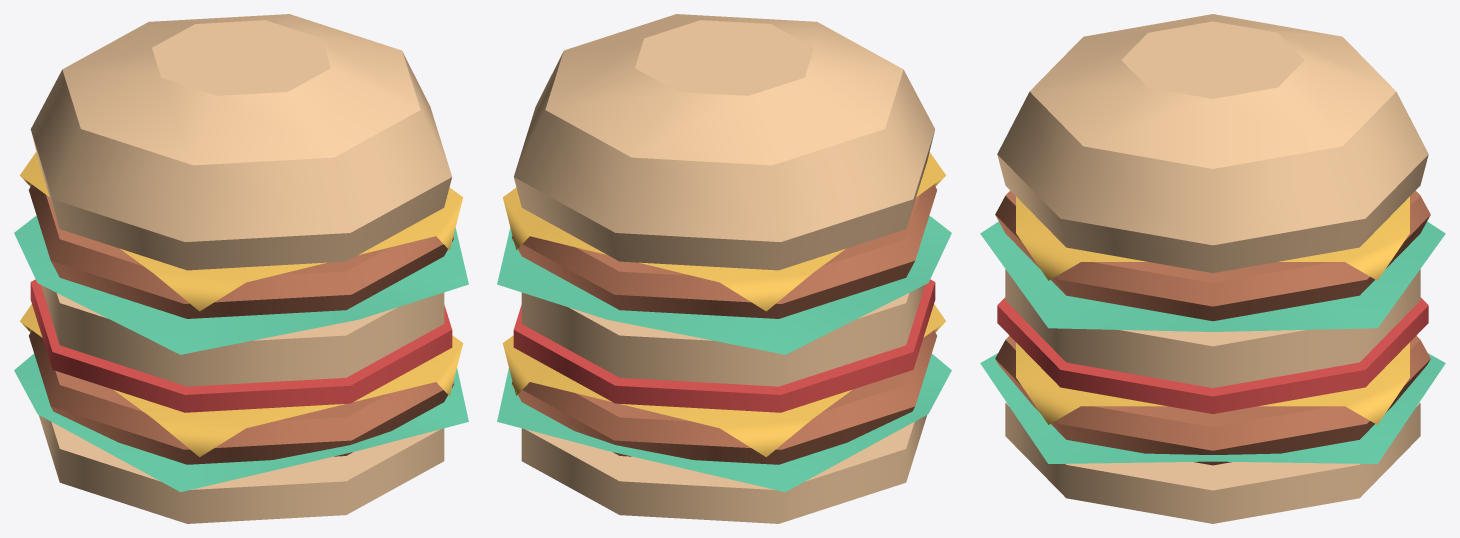
The model's file is burgerDouble.dae.
The picture shows the model from 3 angles, left to right: view 1: azimuth 30°, elevation 25°; view 2: azimuth 150°, elevation 25°; view 3: azimuth 270°, elevation 25°; orthographic projection.
Parts seen in each view (by area): view 1: bunTop, bunBottom (×2), patty (×2), salad (×2), cheese (×2), tomato; view 2: bunTop, bunBottom (×2), patty (×2), salad (×2), cheese (×2), tomato; view 3: bunTop, bunBottom (×2), patty (×2), salad (×2), tomato, cheese (×2).
Part boxes in pixels (x1,y1,x2,y2): bunTop: [30, 14, 451, 270]; bunBottom (×2): [39, 285, 444, 523]; patty (×2): [29, 184, 453, 464]; salad (×2): [14, 215, 468, 491]; cheese (×2): [20, 152, 463, 457]; tomato: [30, 279, 452, 412]; bunTop: [514, 14, 935, 270]; bunBottom (×2): [521, 285, 926, 523]; patty (×2): [512, 184, 936, 464]; salad (×2): [497, 215, 951, 491]; cheese (×2): [502, 152, 945, 457]; tomato: [513, 279, 935, 412]; bunTop: [997, 14, 1428, 272]; bunBottom (×2): [1005, 269, 1420, 523]; patty (×2): [995, 190, 1430, 465]; salad (×2): [980, 221, 1445, 463]; tomato: [997, 297, 1428, 413]; cheese (×2): [1016, 196, 1409, 424].
Bounding box in the file's own units: 0.4041 × 0.36 × 0.4041.
